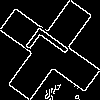L: (25, 25, 79, 74)
